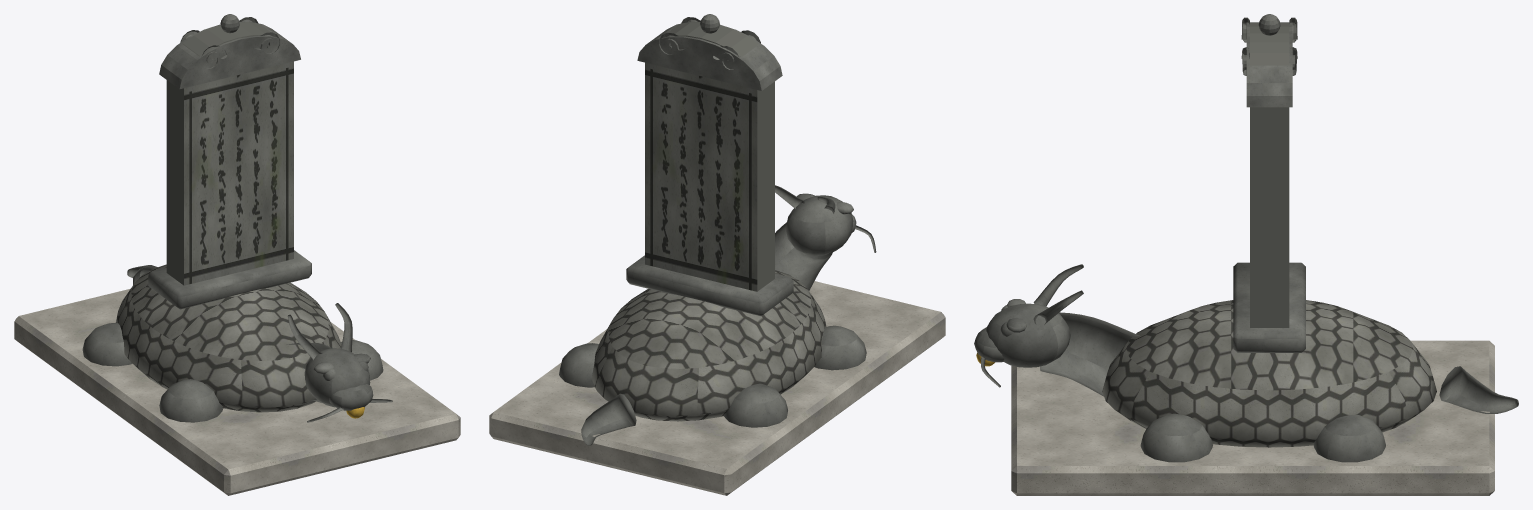
The model's file is tortoise_stele.glb.
The picture shows the model from 3 angles, left to right: view 1: azimuth 30°, elevation 25°; view 2: azimuth 150°, elevation 25°; view 3: azimuth 270°, elevation 25°; orthographic projection. The views are drawn at different scales.
Parts seen in each view (by area): view 1: StelePlinth, SteleTablet, BixiShell, Bixi, SteleCrest; view 2: StelePlinth, SteleTablet, BixiShell, Bixi, SteleCrest; view 3: StelePlinth, BixiShell, Bixi, SteleTablet, SteleCrest.
Part boxes in pixels (x1=…): StelePlinth: x1=14, y1=288, x2=460, y2=495; SteleTablet: x1=166, y1=22, x2=293, y2=285; BixiShell: x1=115, y1=264, x2=341, y2=412; Bixi: x1=82, y1=250, x2=392, y2=422; SteleCrest: x1=159, y1=14, x2=300, y2=89; StelePlinth: x1=489, y1=281, x2=945, y2=495; SteleTablet: x1=645, y1=22, x2=774, y2=291; BixiShell: x1=592, y1=270, x2=826, y2=421; Bixi: x1=559, y1=185, x2=876, y2=445; SteleCrest: x1=637, y1=14, x2=782, y2=90; StelePlinth: x1=1011, y1=340, x2=1494, y2=495; BixiShell: x1=1102, y1=300, x2=1436, y2=447; Bixi: x1=974, y1=262, x2=1518, y2=462; SteleTablet: x1=1250, y1=22, x2=1289, y2=327; SteleCrest: x1=1241, y1=14, x2=1297, y2=107.
Size of what is drawn, in the model's own units: 2.8 by 4.2 by 4.96.
5 materials, 5 textured.
